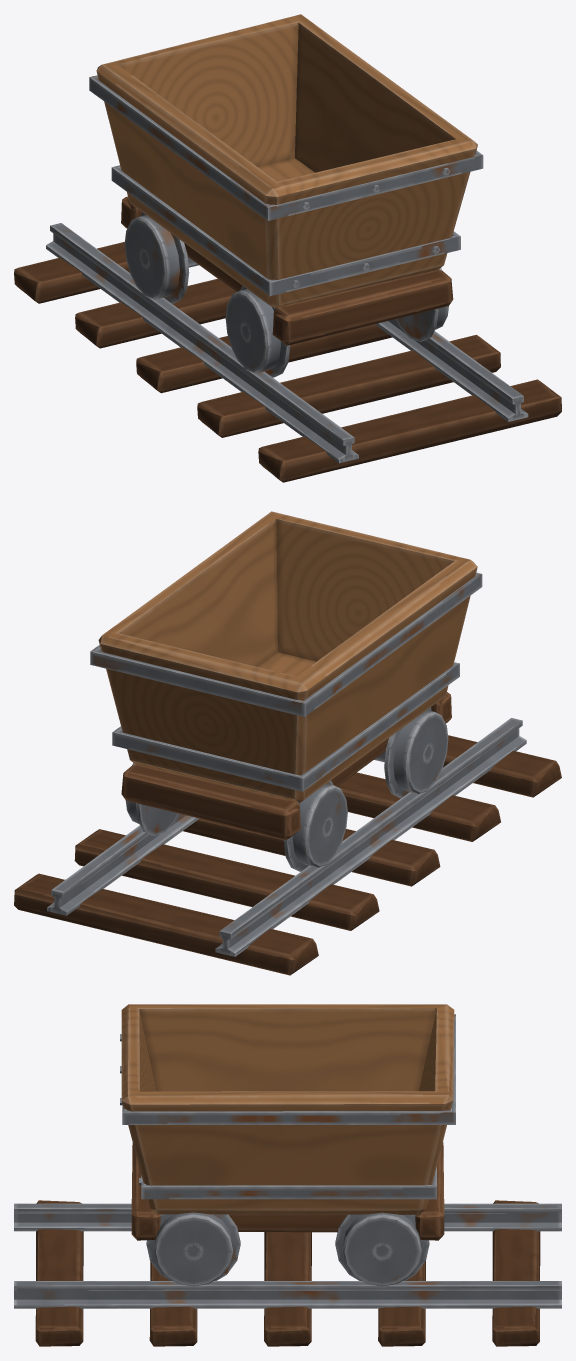
Rendered from mine_cart.glb.
The picture shows the model from 3 angles, top to bottom: view 1: azimuth 30°, elevation 25°; view 2: azimuth 150°, elevation 25°; view 3: azimuth 270°, elevation 25°; orthographic projection. The views are drawn at different scales.
Visible parts, largest first — view 1: tub, rail_left, sleeper_4, sleeper_3, bumper_front, band_high_band, band_low_band, sleeper_1, sleeper_2, rail_right, wheel_back_left, wheel_front_left (+3 smaller); view 2: tub, rail_left, sleeper_0, sleeper_1, bumper_back, band_high_band, band_low_band, sleeper_3, sleeper_2, rail_right, wheel_front_left, wheel_back_left (+3 smaller); view 3: tub, rail_right, rail_left, wheel_front_right, wheel_back_right, band_high_band, sleeper_0, sleeper_4, band_low_band, sleeper_2, sleeper_1, sleeper_3 (+3 smaller).
Boxes of the visible parts, <box> form: tub: <box>96,14,477,307</box>; rail_left: <box>46,223,358,463</box>; sleeper_4: <box>258,379,561,482</box>; sleeper_3: <box>197,334,500,437</box>; bumper_front: <box>272,269,453,345</box>; band_high_band: <box>89,75,483,220</box>; band_low_band: <box>111,165,460,296</box>; sleeper_1: <box>75,278,235,348</box>; sleeper_2: <box>136,324,392,393</box>; rail_right: <box>375,319,528,421</box>; wheel_back_left: <box>124,212,189,303</box>; wheel_front_left: <box>225,286,290,377</box>; tub: <box>98,511,477,803</box>; rail_left: <box>215,718,526,956</box>; sleeper_0: <box>14,873,318,975</box>; sleeper_1: <box>74,829,379,930</box>; bumper_back: <box>121,764,300,839</box>; band_high_band: <box>90,572,482,716</box>; band_low_band: <box>112,662,459,791</box>; sleeper_3: <box>337,772,500,841</box>; sleeper_2: <box>183,818,440,886</box>; rail_right: <box>47,813,198,915</box>; wheel_front_left: <box>384,707,448,798</box>; wheel_back_left: <box>283,780,347,871</box>; tub: <box>121,1004,454,1214</box>; rail_right: <box>14,1281,561,1308</box>; rail_left: <box>14,1203,561,1231</box>; wheel_front_right: <box>146,1212,240,1286</box>; wheel_back_right: <box>335,1212,429,1286</box>; band_high_band: <box>120,1014,455,1124</box>; sleeper_0: <box>492,1200,540,1346</box>; sleeper_4: <box>35,1200,83,1346</box>; band_low_band: <box>139,1166,436,1199</box>; sleeper_2: <box>264,1232,311,1346</box>; sleeper_1: <box>378,1261,425,1346</box>; sleeper_3: <box>149,1261,197,1346</box>.
Bounding box in the file's own units: 1.01 × 0.8516 × 1.8.
Materials: 3 (3 with a texture image).
